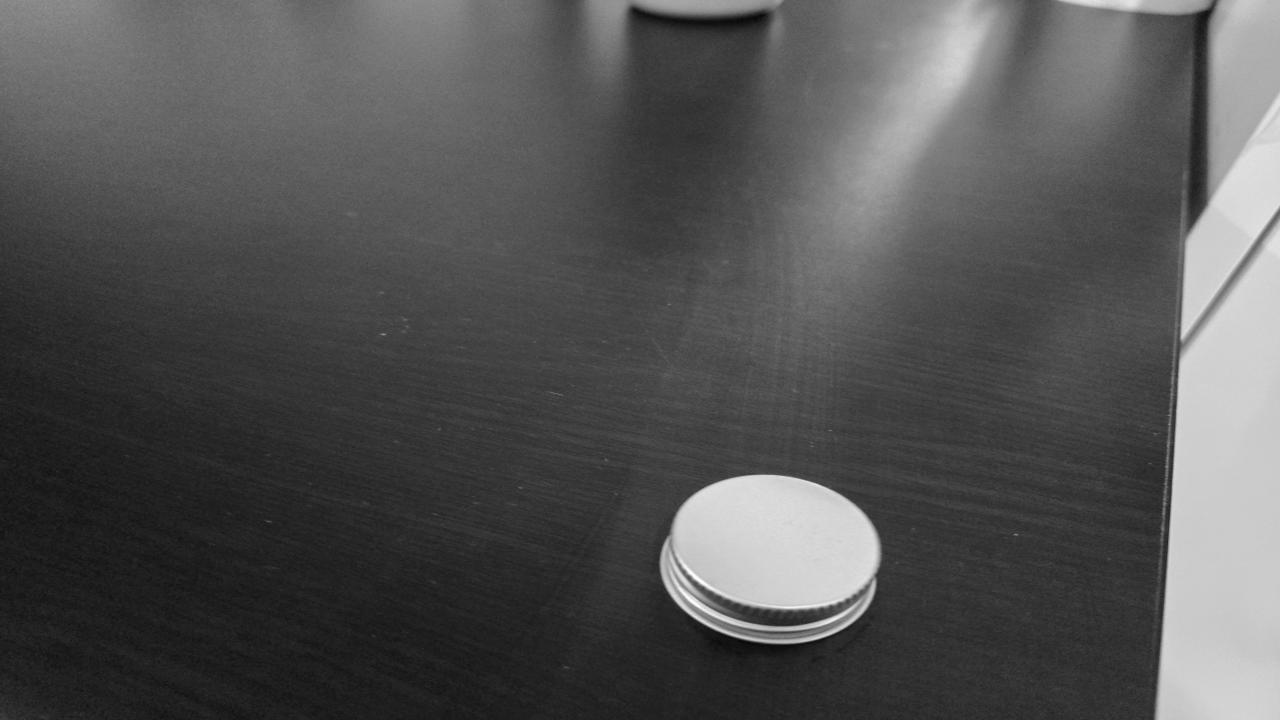bottle_cap: (666, 474, 875, 642)
